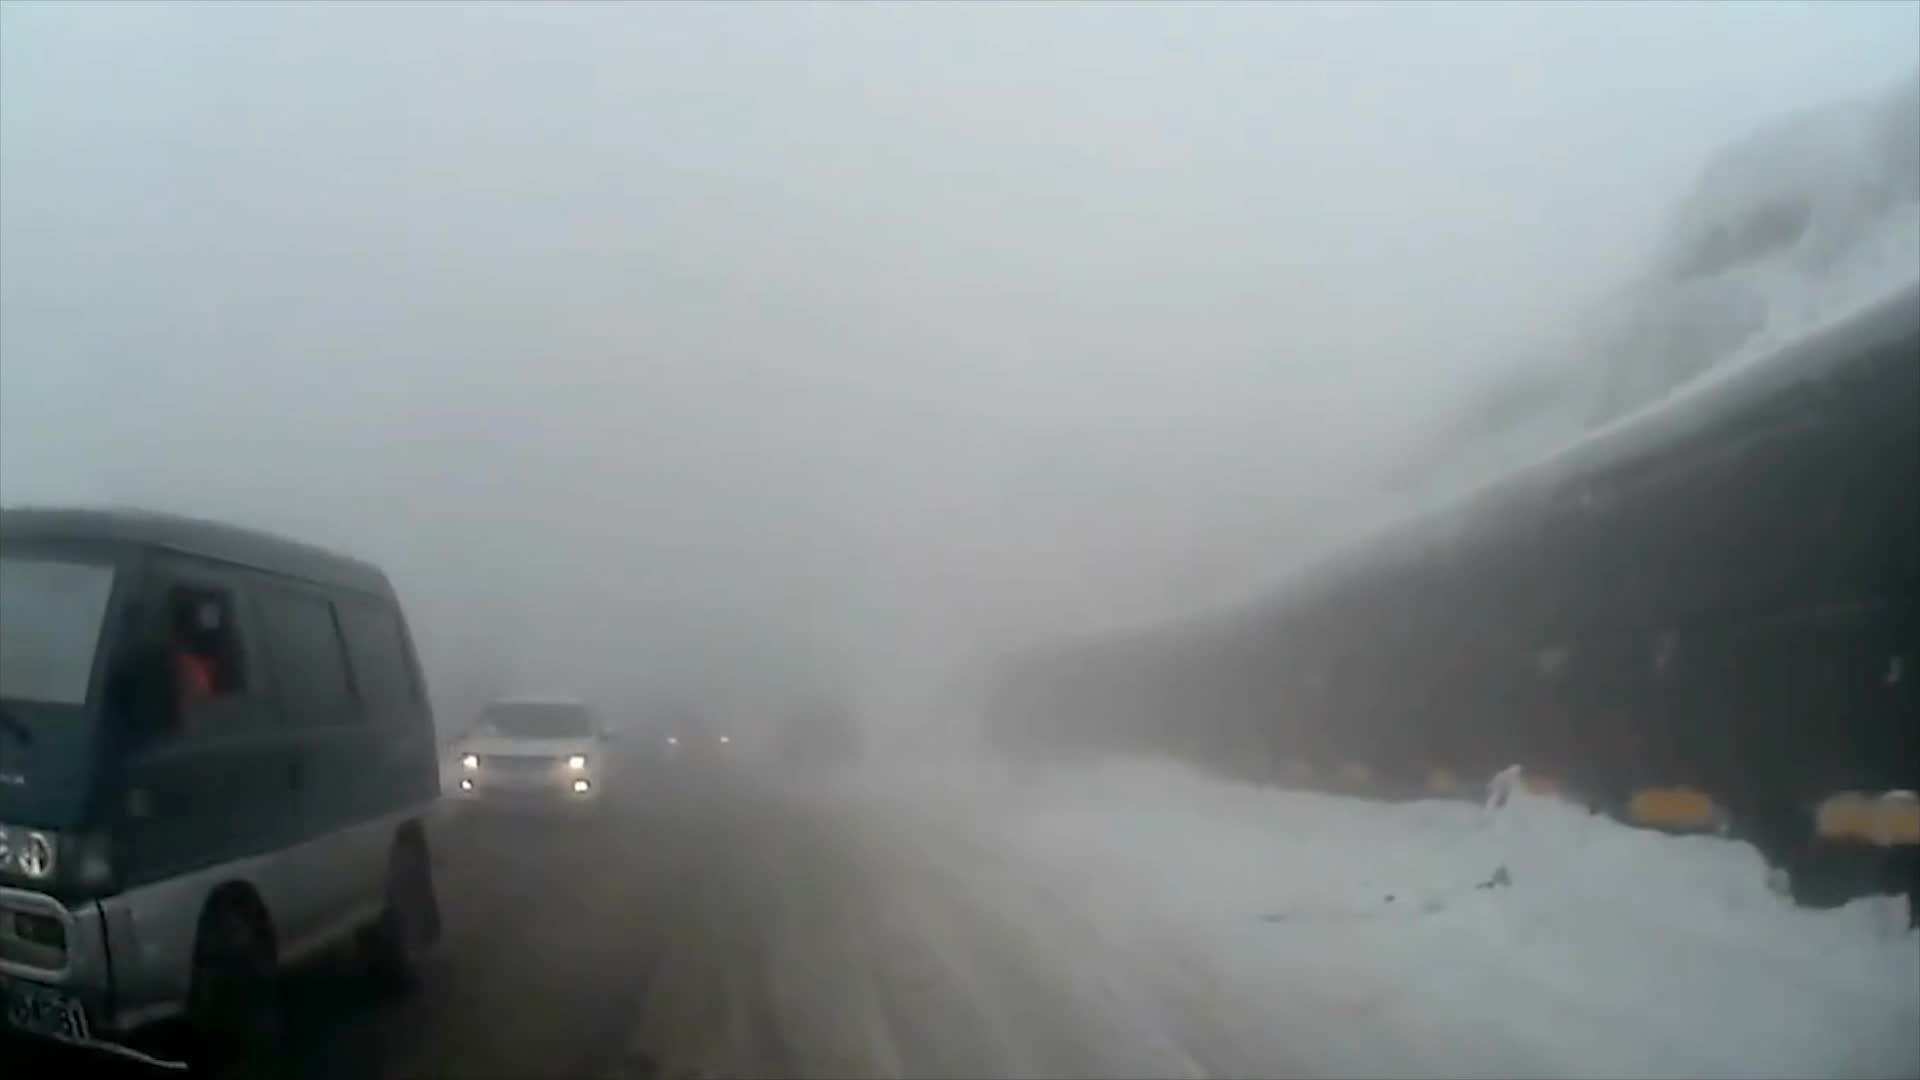vehicle: (0, 505, 446, 1080), (448, 692, 617, 824)
